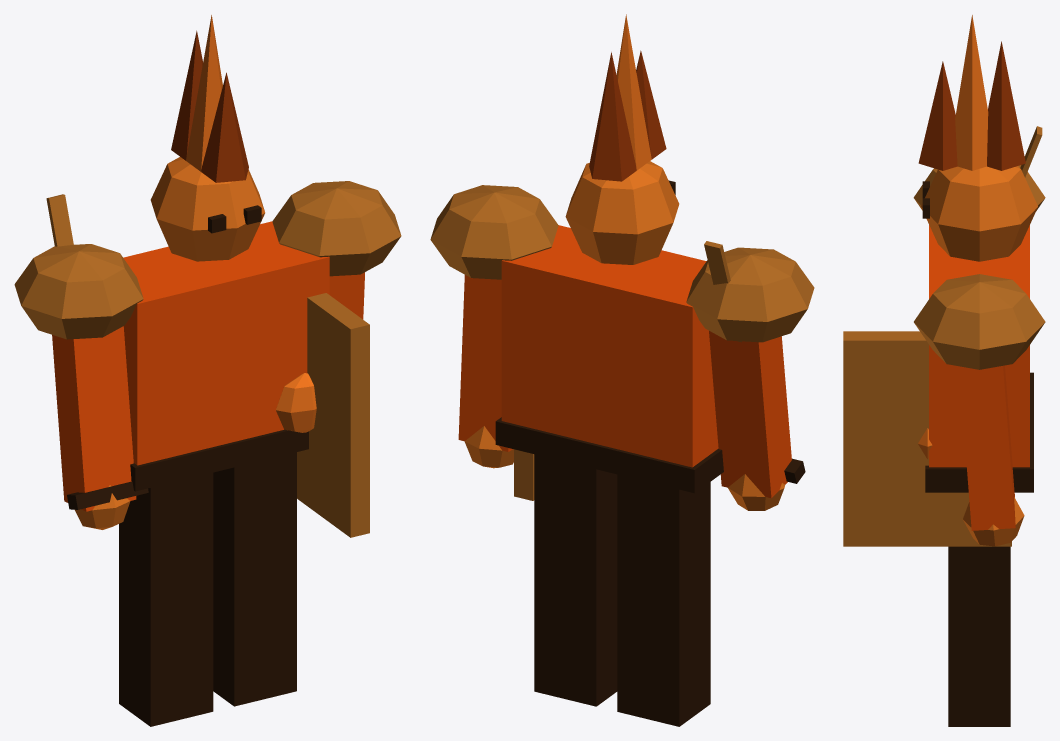
Rendered from SM_Champion_9013_Ignis.glb.
The picture shows the model from 3 angles, left to right: view 1: azimuth 30°, elevation 25°; view 2: azimuth 150°, elevation 25°; view 3: azimuth 270°, elevation 25°; orthographic projection.
Visible parts, largest first — view 1: SM_Champion_9013_Ignis; view 2: SM_Champion_9013_Ignis; view 3: SM_Champion_9013_Ignis.
Part boxes in pixels (x1,y1,x2,y2): SM_Champion_9013_Ignis: [14, 15, 401, 726]; SM_Champion_9013_Ignis: [430, 14, 814, 726]; SM_Champion_9013_Ignis: [843, 15, 1045, 726].
Size of the model in its own units: 1.07 by 1.88 by 0.5085.
